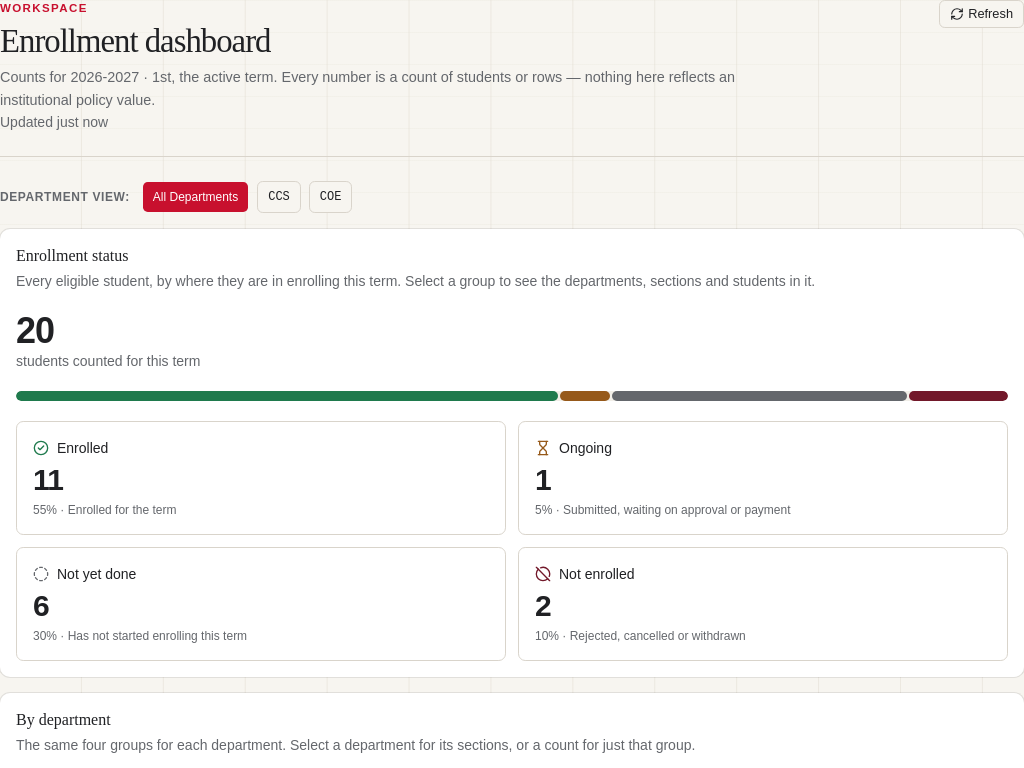
Scenario: EnrollmentDashboardWorkspace › drills from a group to departments, sections, students and one student's enrollment
The image size is (1024, 768).
Step 1. Click the button with aria-label "Enrolled: 11 students" → (83, 448), box x1=16 y1=421 x2=506 y2=535
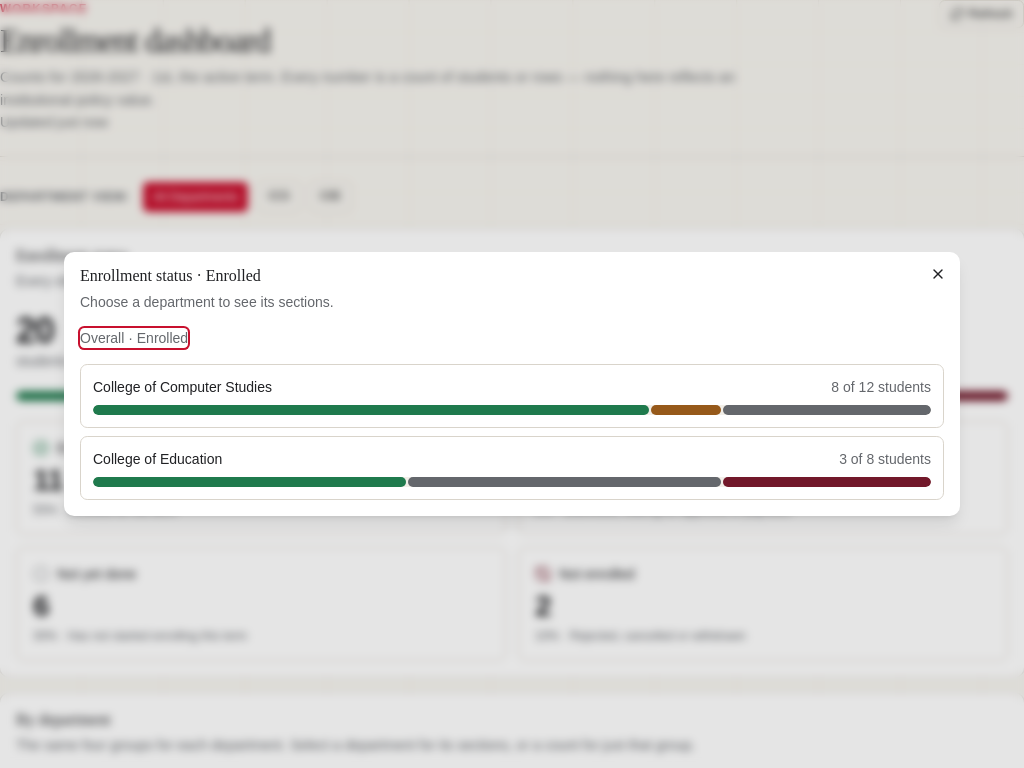
# Departments, narrowed to the chosen group.
Step 2. Click the button with aria-label "College of Computer Studies: 8 Enrolled, of 12 students" → (182, 387), box x1=80 y1=364 x2=944 y2=428
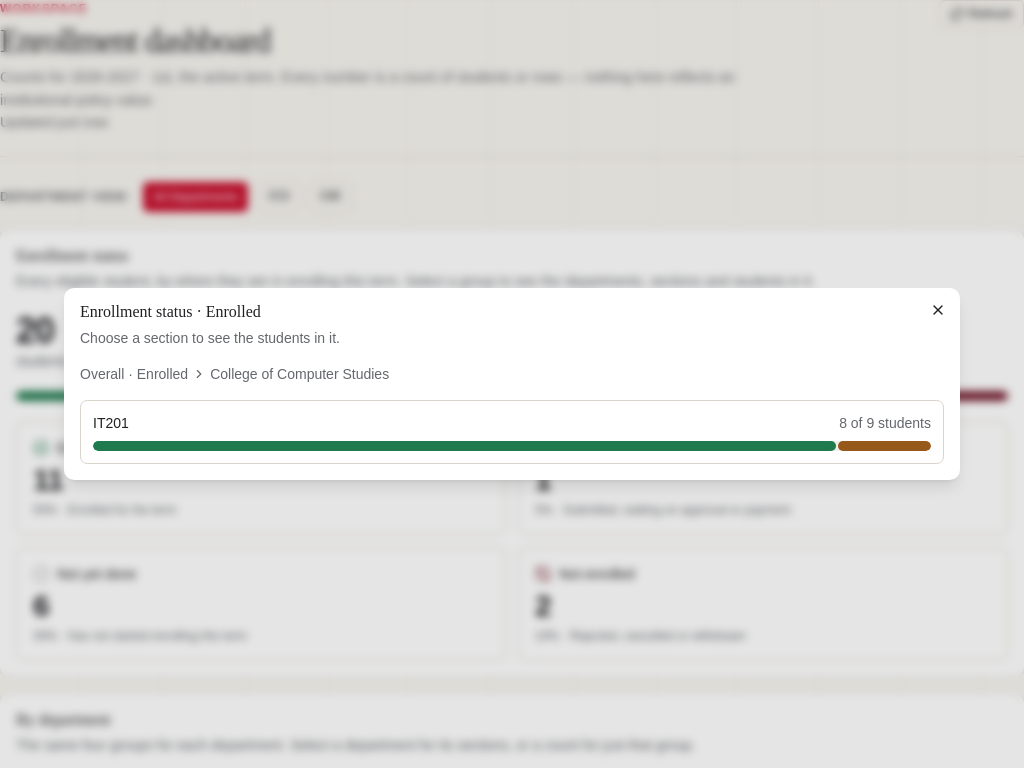
# Sections of that department that have enrolled students.
Step 3. Click the button with aria-label "IT201: 8 Enrolled" → (111, 423), box x1=80 y1=400 x2=944 y2=464
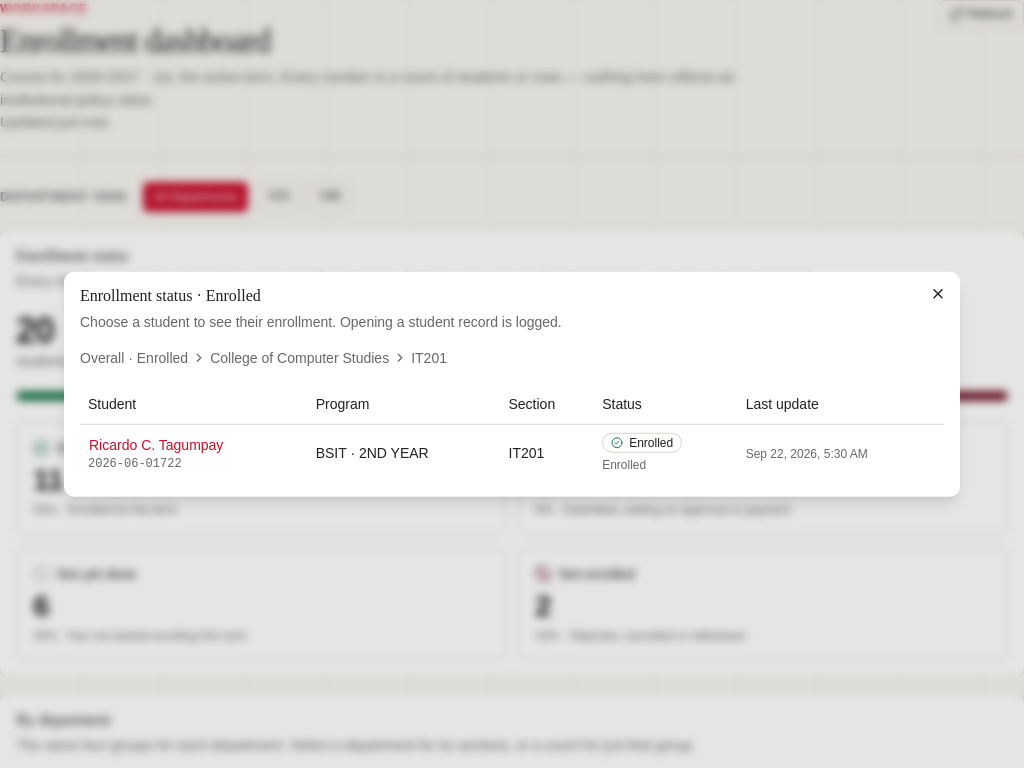
Step 4. Click the button "Ricardo C. Tagumpay" → (194, 444), box x1=88 y1=433 x2=300 y2=455
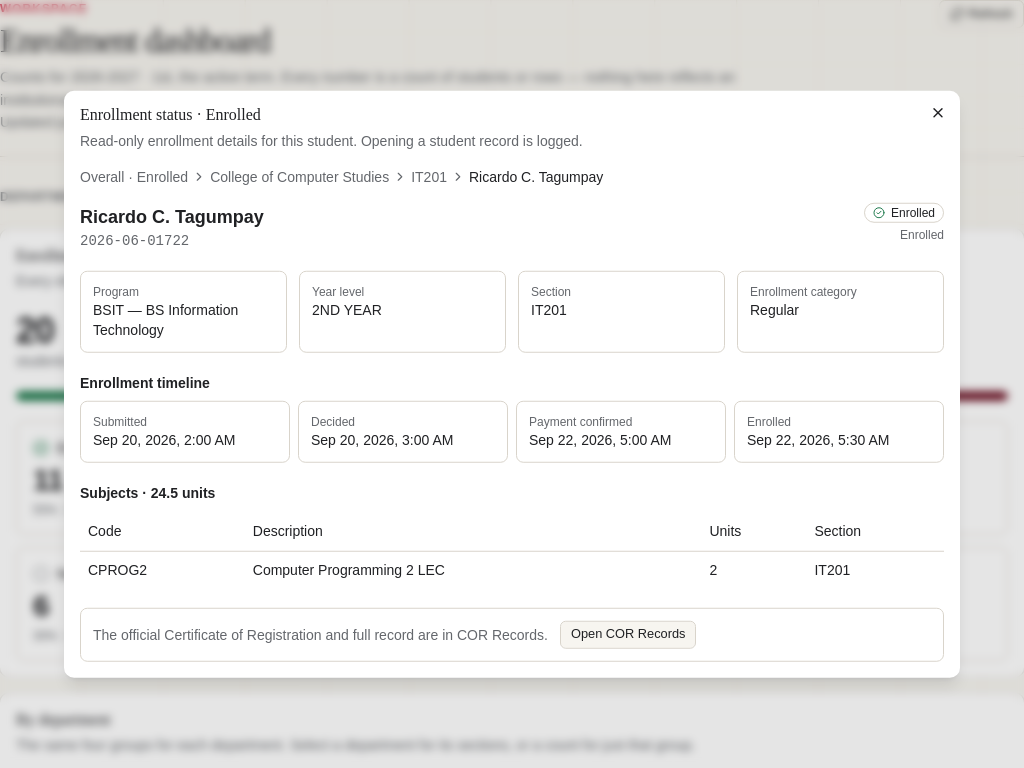
Now the text "2026-06-01722" is shown, box x1=80 y1=233 x2=189 y2=249
Now the heading "Enrollment timeline" is shown, box x1=80 y1=375 x2=210 y2=391
Now the heading "Subjects · 24.5 units" is shown, box x1=80 y1=485 x2=215 y2=501
# A breadcrumb takes the reader back up a level.
Step 5. Click the button "College of Computer Studies" → (300, 177), box x1=210 y1=167 x2=389 y2=187
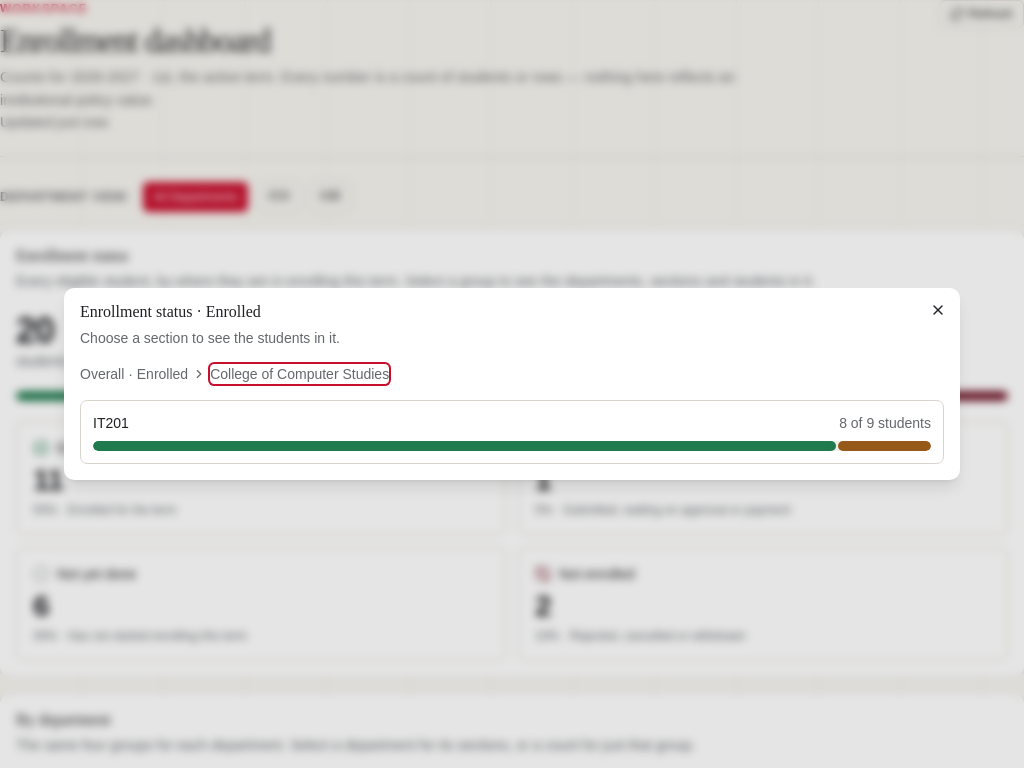
Now the button with aria-label "IT201: 8 Enrolled" is shown, box x1=80 y1=400 x2=944 y2=464
